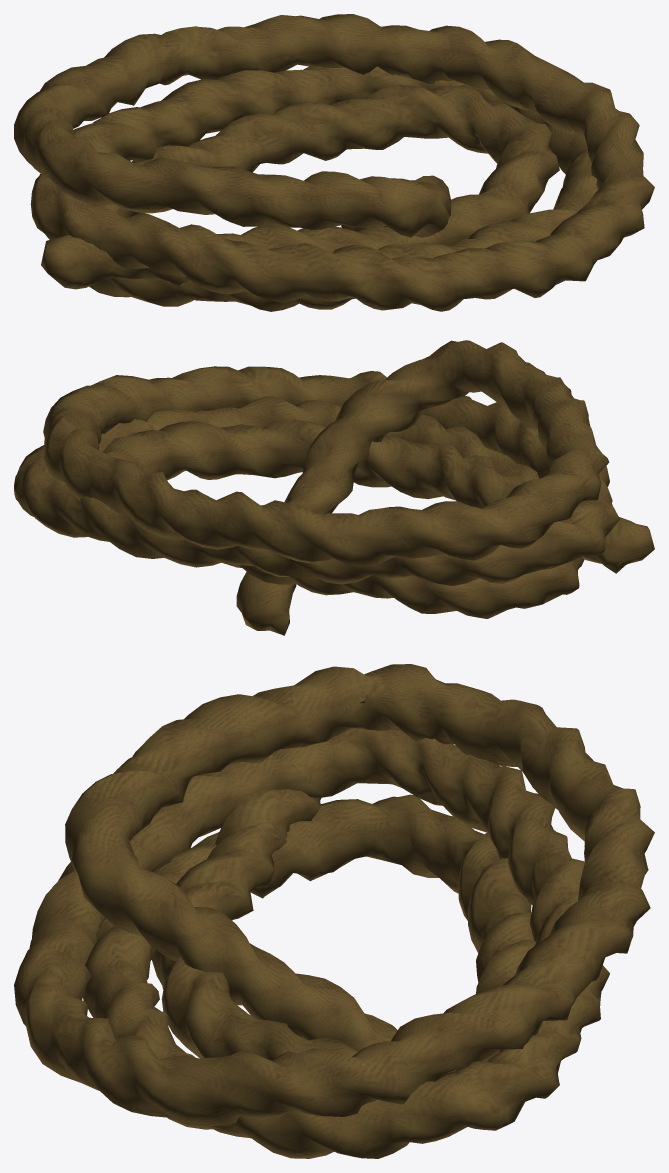
The model's file is SM_Rope.fbx.
The picture shows the model from 3 angles, top to bottom: view 1: azimuth 30°, elevation 25°; view 2: azimuth 150°, elevation 25°; view 3: azimuth 270°, elevation 25°; orthographic projection. The views are drawn at different scales.
Parts seen in each view (by area): view 1: Circle.002; view 2: Circle.002; view 3: Circle.002.
Boxes of the visible parts, <box> form: Circle.002: <box>14,14,654,311</box>; Circle.002: <box>14,340,654,635</box>; Circle.002: <box>14,664,654,1158</box>.
Bounding box in the file's own units: 203 × 76.76 × 157.
